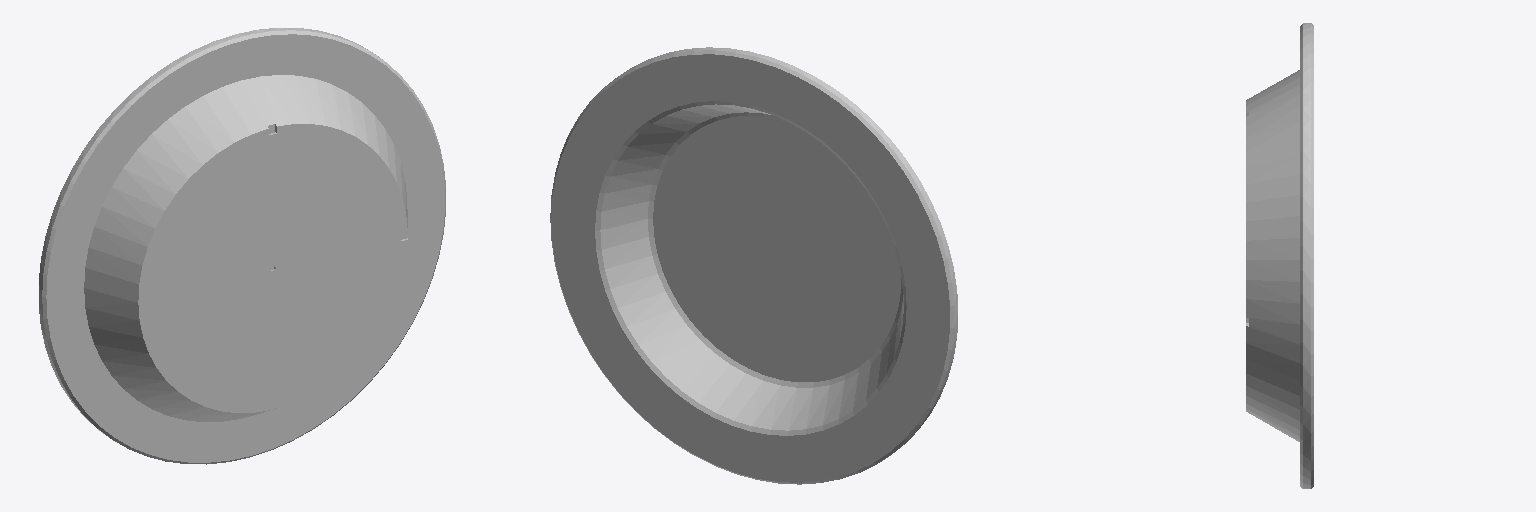
File: printingPlatform.obj
3 views of the same model, side by side, from view 1: azimuth 30°, elevation 25°; view 2: azimuth 150°, elevation 25°; view 3: azimuth 270°, elevation 25° (orthographic).
Visible parts, largest first — view 1: Solid1; view 2: Solid1; view 3: Solid1.
Boxes of the visible parts, x1,y1,x2,y2 form: Solid1: [39, 28, 445, 464]; Solid1: [550, 47, 957, 484]; Solid1: [1246, 23, 1313, 488].
Size of the model in its own units: 300 by 300 by 44.